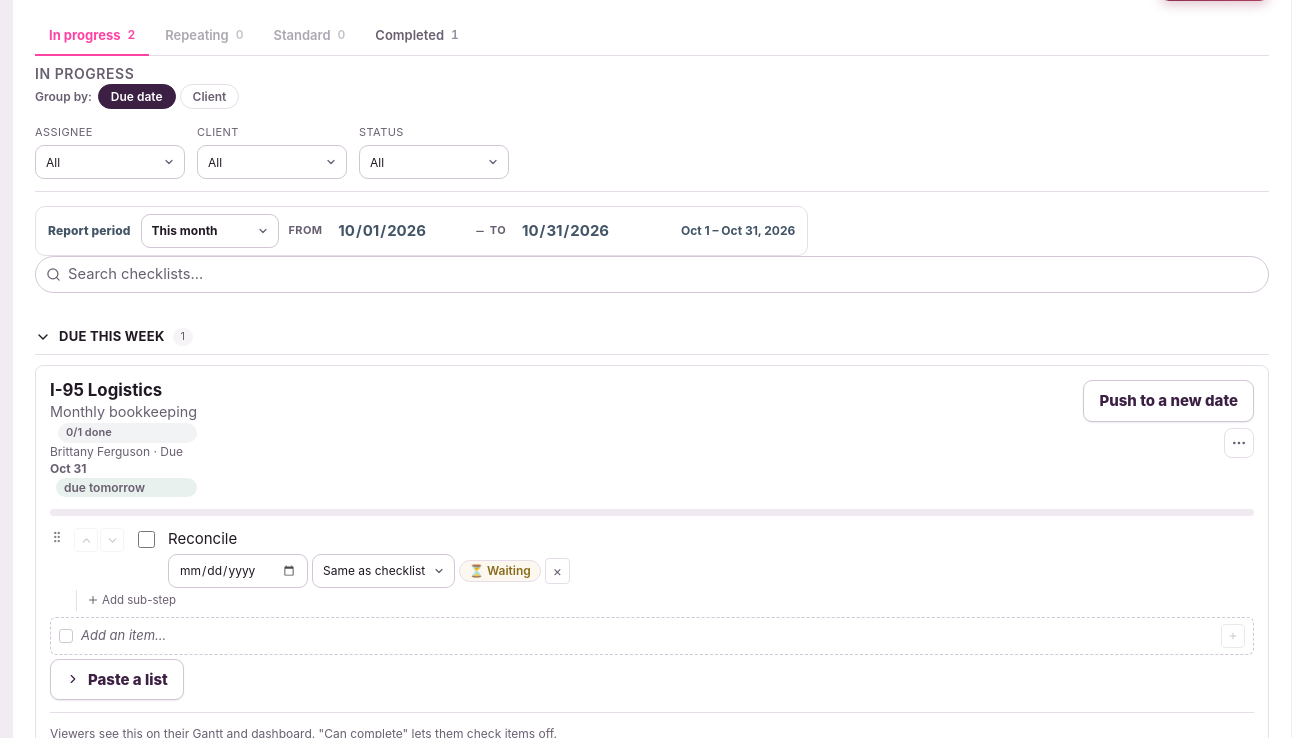
the held row is let go when the view changes (review M1) › a client filter change releases it, even to its own client
Select "I-95 Logistics" in the dropdown labelled "Client" at x=272, y=162, box [197, 145, 347, 179]
(page scrolled)
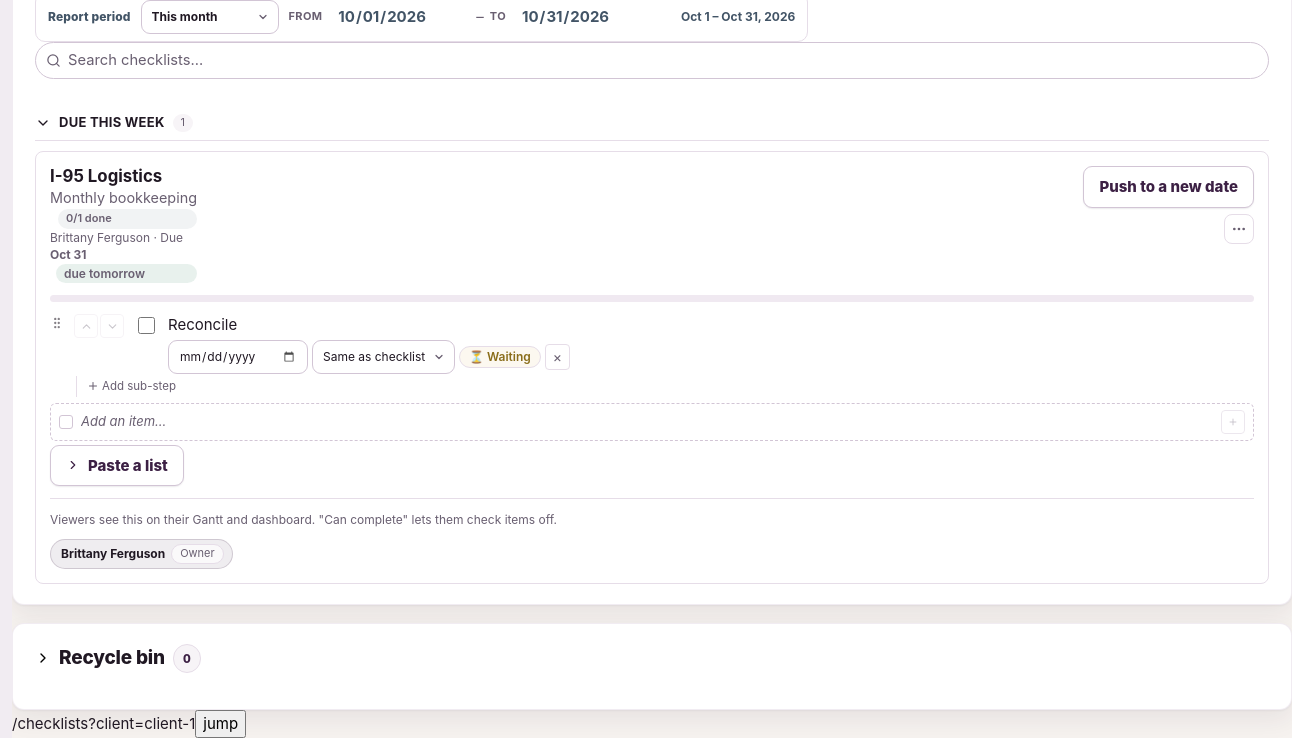
Expected: the element with class "checklist-block" is shown, [35, 151, 1269, 584]
Now the text with test id "url" shows "client=client-1", box [12, 714, 195, 733]
